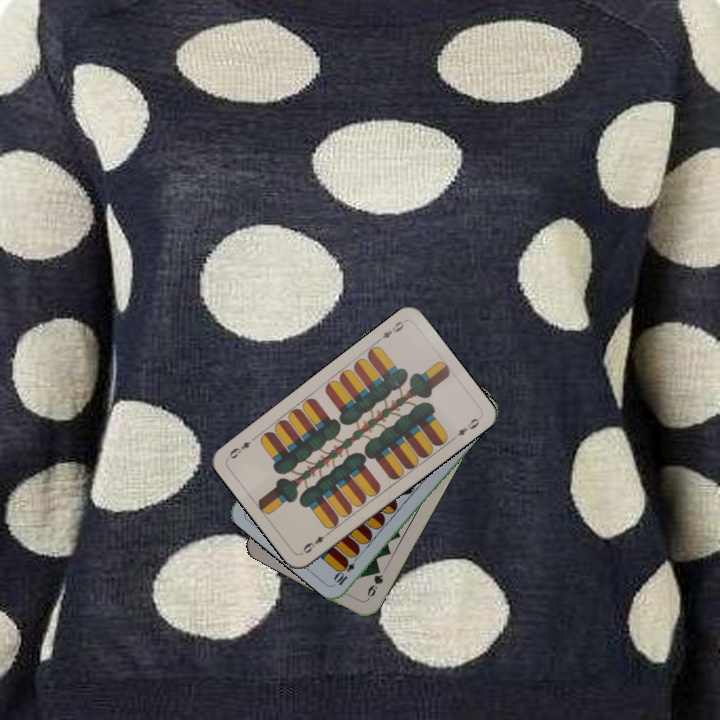E10: (331, 551, 361, 588)
E9: (297, 528, 333, 557), (373, 316, 408, 345)
G9: (363, 564, 386, 603)
